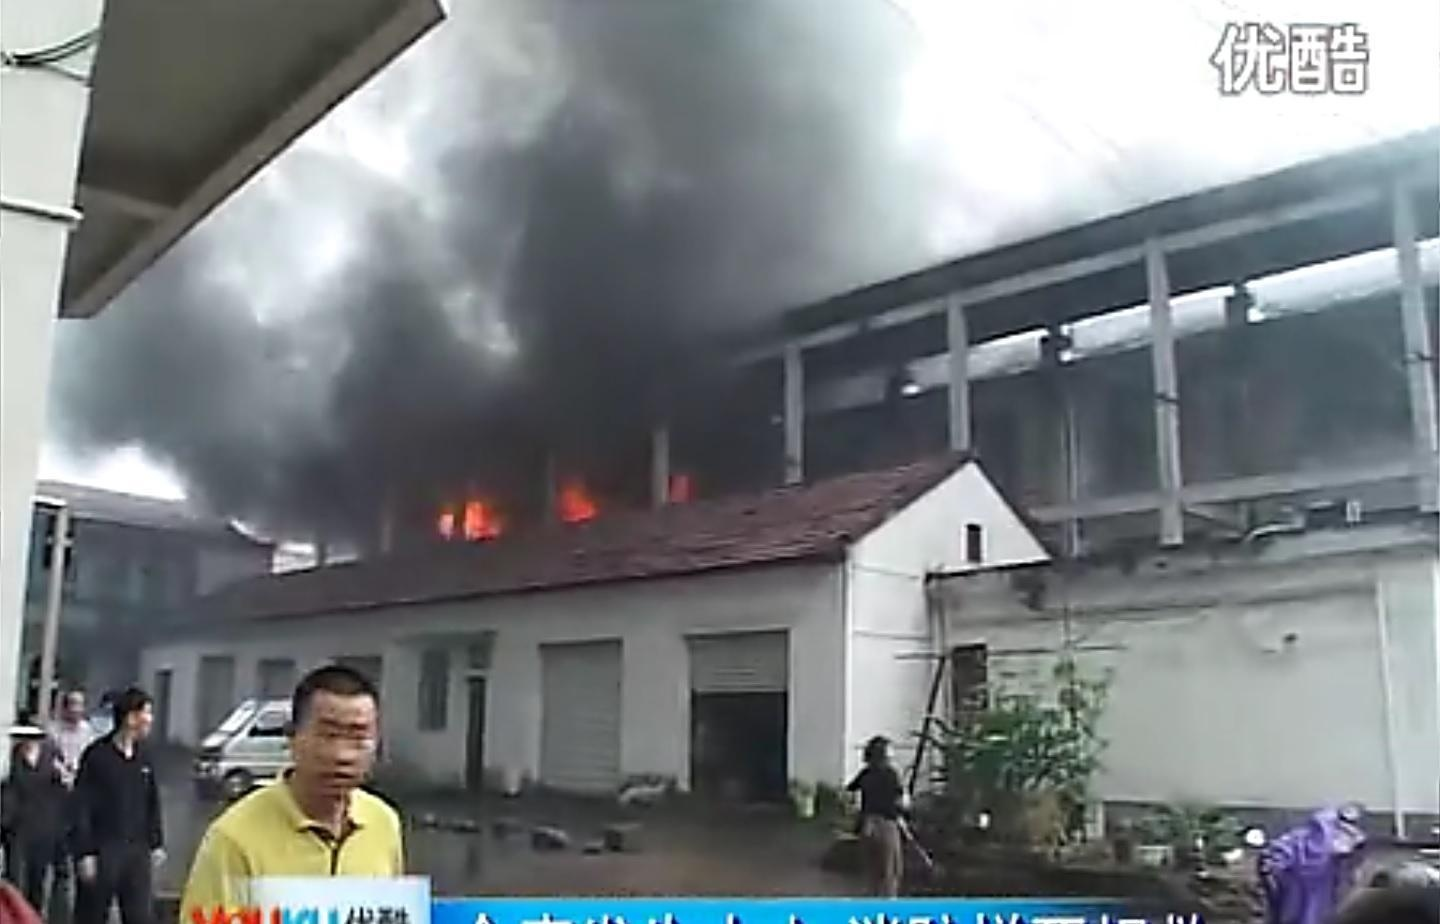fire: (437, 489, 502, 537)
